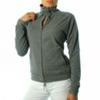maglia: (16, 6, 81, 93)
